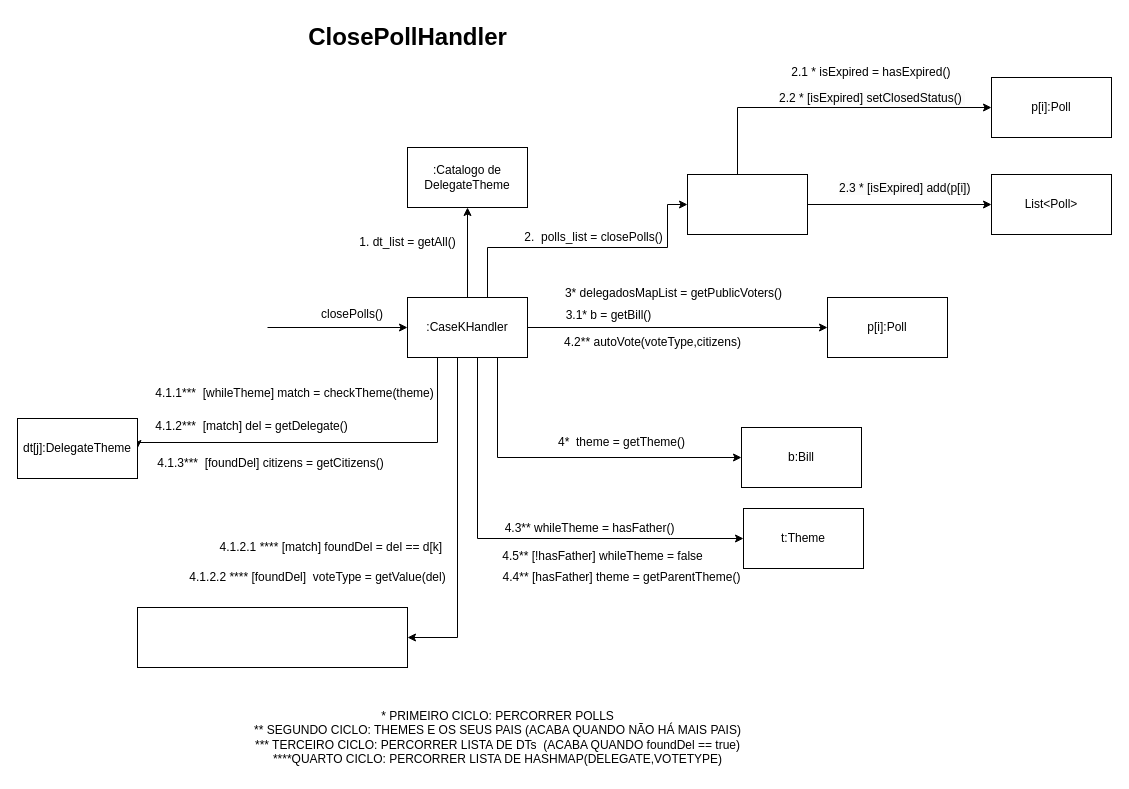
This 1129x789 diagram has some shape labels left out. The shapes that lost their labels are listed below. From the top down, each one's centre as x and y in pixels, then its label:
point 747,204: :Catalogo de Polls
point 272,637: List< HashMap<Delegate,VoteType> >
